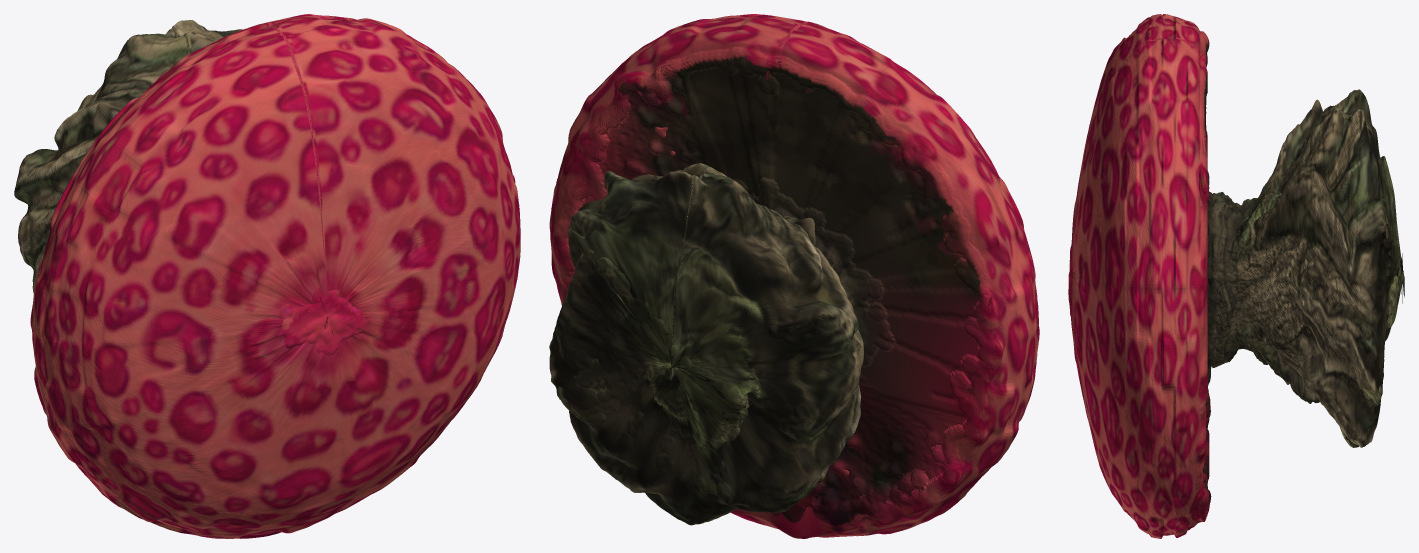
File: mesh_inpaint.glb
The picture shows the model from 3 angles, left to right: view 1: azimuth 30°, elevation 25°; view 2: azimuth 150°, elevation 25°; view 3: azimuth 270°, elevation 25°; orthographic projection. The views are drawn at different scales.
Parts seen in each view (by area): view 1: ipn, fill; view 2: ipn, fill; view 3: ipn, fill.
Part boxes in pixels (bbox=[...]): ipn: bbox=[14, 14, 520, 538]; fill: bbox=[28, 153, 365, 355]; ipn: bbox=[549, 14, 1039, 538]; fill: bbox=[553, 47, 1001, 526]; ipn: bbox=[1069, 14, 1404, 538]; fill: bbox=[1068, 32, 1401, 516].
Size of the model in its own units: 1.98 by 1.99 by 1.27.
2 materials, 1 textured.
